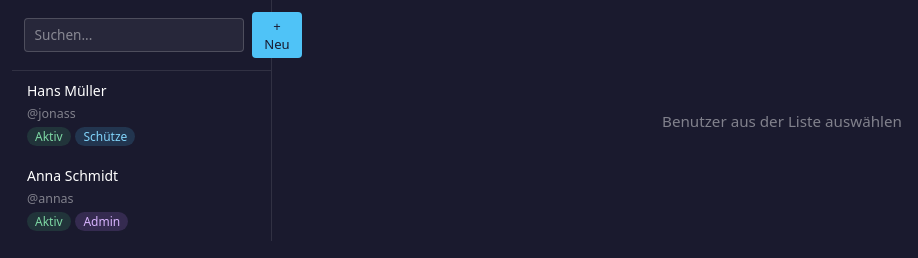
Test: UsersView › filters list by search term
Type "anna" into the field with test id "search-input" at (134, 35), box x1=24 y1=18 x2=244 y2=52
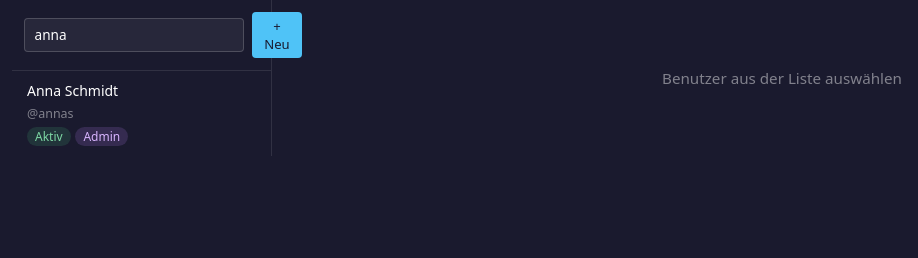
Expected: the text "Anna Schmidt" is shown, x1=27 y1=81 x2=118 y2=100
Result: the text "Hans Müller" is gone
